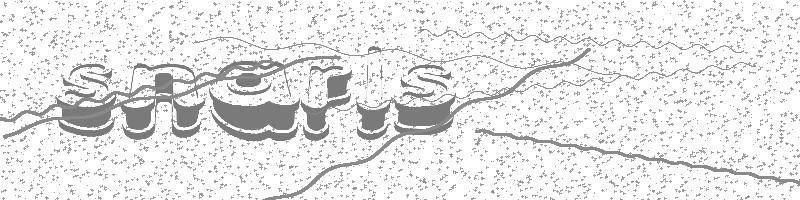a: (204, 52, 301, 145)
l: (354, 41, 393, 144)
n: (118, 56, 207, 144)
r: (295, 58, 358, 145)
s: (54, 55, 121, 141), (392, 61, 459, 137)
